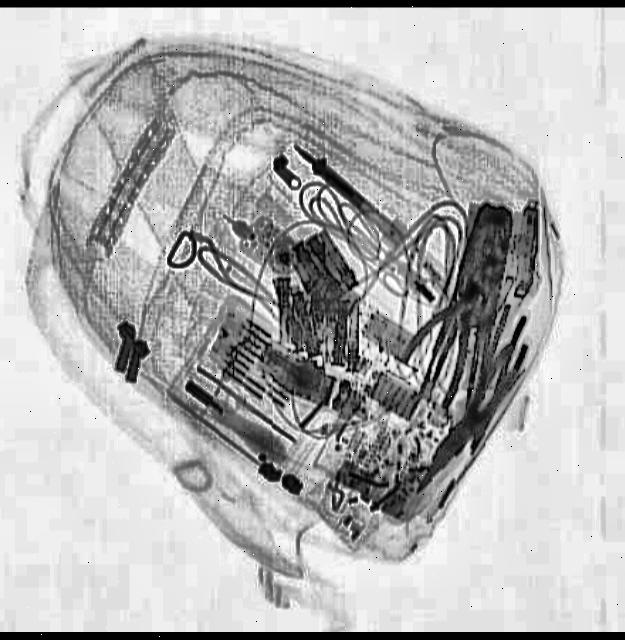Pliers: (387, 242, 502, 415)
